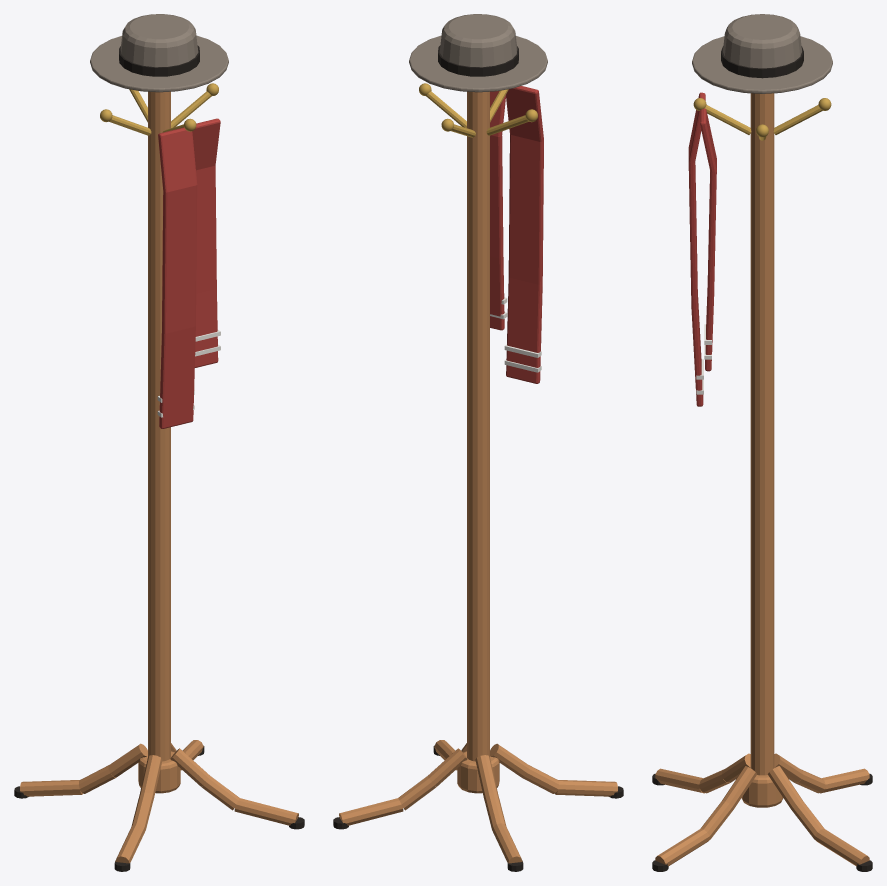
File: hh_cat_hat_stand_loft.glb
3 views of the same model, side by side, from view 1: azimuth 30°, elevation 25°; view 2: azimuth 150°, elevation 25°; view 3: azimuth 270°, elevation 25° (orthographic).
Parts seen in each view (by area): view 1: pole, scarf, scarf.001, hat_brim, hat_crown, foot.005, foot.011, pole_collar, hat_band, foot.008, foot.009, foot.003 (+2 smaller); view 2: pole, scarf, hat_brim, hat_crown, scarf.001, foot.008, foot.002, pole_collar, hat_band, foot, foot.005, foot.006 (+2 smaller); view 3: pole, hat_brim, hat_crown, scarf, scarf.001, pole_collar, hat_band, foot.002, foot.011, foot.005, foot.008, foot (+3 smaller).
Part boxes in pixels (x1,y1,x2,y2): pole: [148, 91, 170, 761]; scarf: [158, 127, 197, 428]; scarf.001: [192, 118, 220, 367]; hat_brim: [90, 35, 228, 92]; hat_crown: [120, 14, 198, 67]; foot.005: [20, 779, 83, 796]; foot.011: [234, 798, 298, 825]; pole_collar: [138, 751, 180, 793]; hat_band: [119, 45, 199, 76]; foot.008: [115, 823, 145, 863]; foot.009: [170, 748, 210, 786]; foot.003: [108, 743, 147, 777]; pole: [467, 91, 489, 761]; scarf: [506, 86, 543, 383]; hat_brim: [409, 35, 547, 92]; hat_crown: [439, 14, 517, 67]; scarf.001: [490, 91, 506, 330]; foot.008: [554, 779, 617, 796]; foot.002: [339, 798, 403, 825]; pole_collar: [457, 751, 499, 793]; hat_band: [438, 45, 518, 76]; foot: [427, 748, 467, 786]; foot.005: [492, 823, 522, 863]; foot.006: [490, 743, 529, 777]; pole: [750, 93, 774, 775]; hat_brim: [692, 36, 832, 93]; hat_crown: [723, 14, 801, 68]; scarf: [688, 92, 705, 406]; scarf.001: [700, 108, 716, 371]; pole_collar: [741, 767, 783, 807]; hat_band: [721, 46, 803, 78]; foot.002: [815, 828, 869, 866]; foot.011: [655, 828, 709, 866]; foot.005: [820, 768, 869, 793]; foot.008: [655, 768, 704, 793]; foot: [768, 766, 802, 808].
Size of the model in its own units: 0.4 by 1.6 by 0.4.
